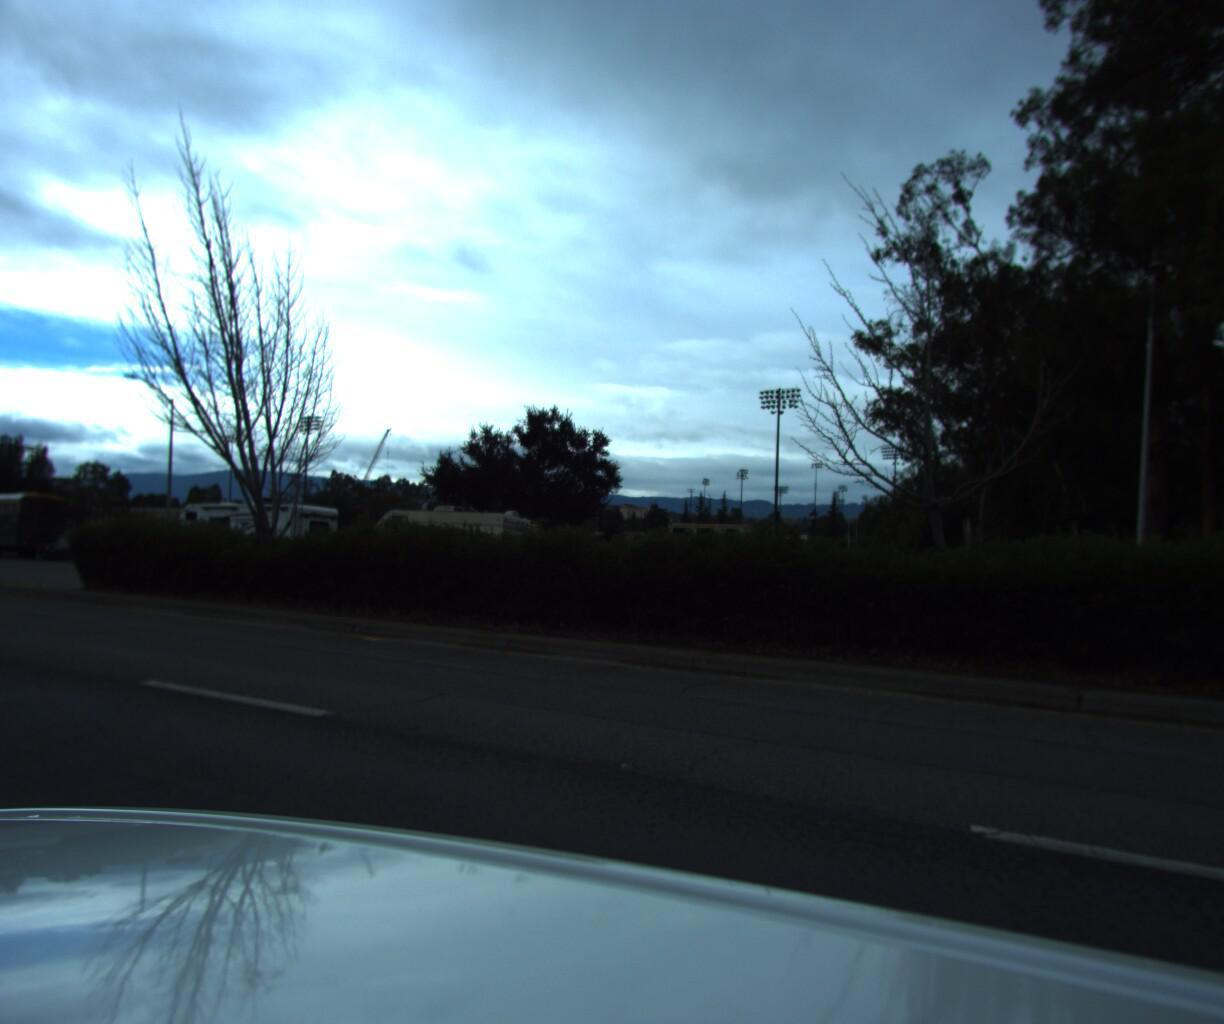bus: (0, 483, 66, 559)
car: (27, 527, 122, 563)
other_vehicle: (354, 496, 546, 592), (159, 487, 343, 582)
